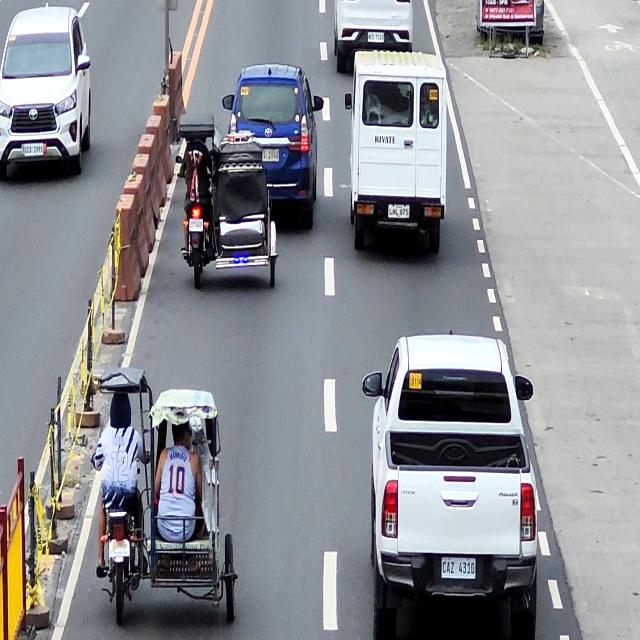Car: (364, 335, 537, 640), (346, 51, 448, 260), (223, 64, 324, 231), (0, 6, 93, 184), (334, 0, 414, 74)
License-Plate: (441, 556, 476, 580), (108, 540, 131, 557), (388, 205, 410, 220), (259, 149, 280, 163), (23, 143, 44, 157), (188, 218, 204, 232), (367, 31, 384, 43)
Tricycle: (98, 370, 238, 624), (175, 112, 279, 290)
